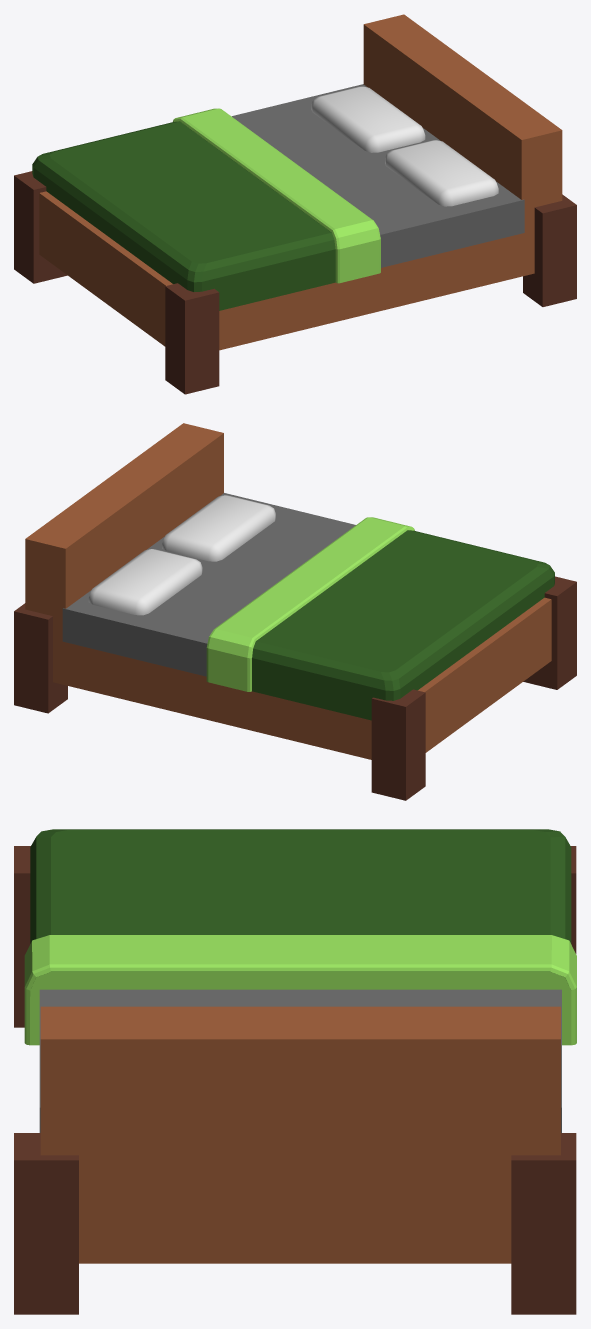
File: bed.fbx
The picture shows the model from 3 angles, top to bottom: view 1: azimuth 30°, elevation 25°; view 2: azimuth 150°, elevation 25°; view 3: azimuth 270°, elevation 25°; orthographic projection. The views are drawn at different scales.
Visible parts, largest first — view 1: sheet, bed frame, Mattress, post_01.001, pillow_01.001, pillow_01, post_01.003, post_01; view 2: sheet, bed frame, Mattress, post_01, pillow_01.001, pillow_01, post_01.002, post_01.001; view 3: bed frame, sheet, post_01.003, post_01.002, Mattress, post_01.001, post_01.
Boxes of the visible parts, x1,y1,x2,y2 form: sheet: [32, 108, 380, 310]; bed frame: [39, 14, 562, 350]; Mattress: [232, 84, 524, 267]; post_01.001: [165, 283, 219, 394]; pillow_01.001: [311, 86, 425, 152]; pillow_01: [385, 140, 498, 206]; post_01.003: [523, 194, 576, 306]; post_01: [14, 171, 67, 283]; sheet: [206, 517, 554, 720]; bed frame: [25, 423, 551, 759]; Mattress: [62, 493, 355, 676]; post_01: [371, 689, 425, 800]; pillow_01.001: [88, 549, 202, 615]; pillow_01: [162, 495, 275, 561]; post_01.002: [14, 603, 67, 713]; post_01.001: [523, 576, 576, 689]; bed frame: [40, 1006, 560, 1263]; sheet: [24, 829, 576, 1045]; post_01.003: [14, 1133, 78, 1314]; post_01.002: [511, 1133, 576, 1314]; Mattress: [39, 989, 561, 1132]; post_01.001: [14, 846, 30, 1027]; post_01: [571, 846, 576, 953].
Size of the model in its own units: 825 by 331 by 625.
